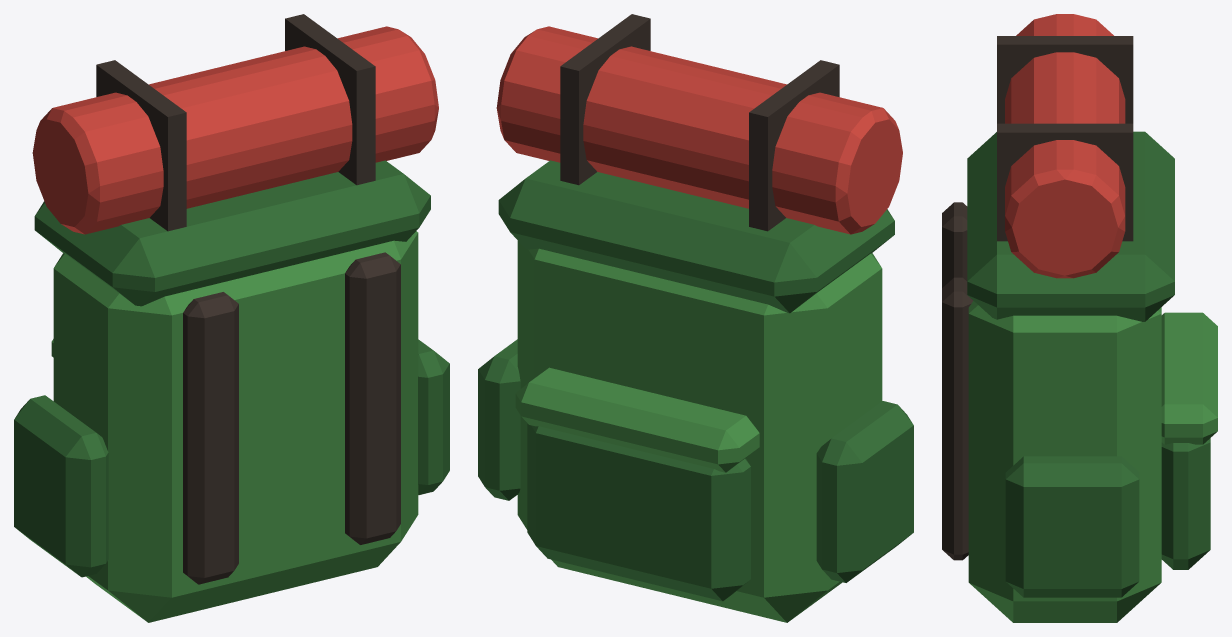
The model's file is bag_backpack.glb.
3 views of the same model, side by side, from view 1: azimuth 30°, elevation 25°; view 2: azimuth 150°, elevation 25°; view 3: azimuth 270°, elevation 25° (orthographic). The views are drawn at different scales.
Parts seen in each view (by area): view 1: Fabric__468C46, Fabric__346C36, Fabric__C8463C, Fabric__3C322C; view 2: Fabric__346C36, Fabric__468C46, Fabric__C8463C, Fabric__3C322C; view 3: Fabric__468C46, Fabric__346C36, Fabric__C8463C, Fabric__3C322C.
Boxes of the visible parts, x1,y1,x2,y2 form: Fabric__468C46: [51, 231, 418, 622]; Fabric__346C36: [14, 160, 449, 577]; Fabric__C8463C: [32, 26, 438, 234]; Fabric__3C322C: [96, 14, 400, 584]; Fabric__346C36: [478, 160, 913, 601]; Fabric__468C46: [515, 241, 882, 622]; Fabric__C8463C: [496, 26, 902, 234]; Fabric__3C322C: [560, 14, 839, 231]; Fabric__468C46: [968, 301, 1217, 622]; Fabric__346C36: [967, 131, 1210, 597]; Fabric__C8463C: [1005, 14, 1125, 278]; Fabric__3C322C: [942, 36, 1133, 560].
Bounding box in the file's own units: 2.85 × 3.61 × 1.86.
